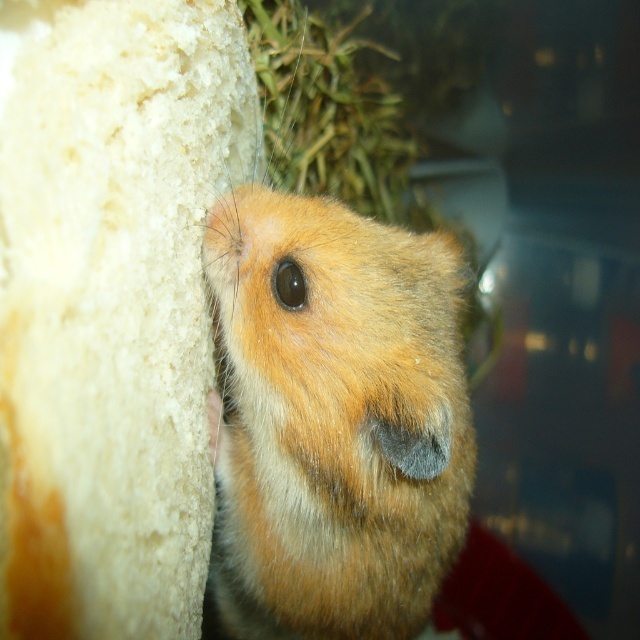Mouse: (196, 179, 485, 622)
